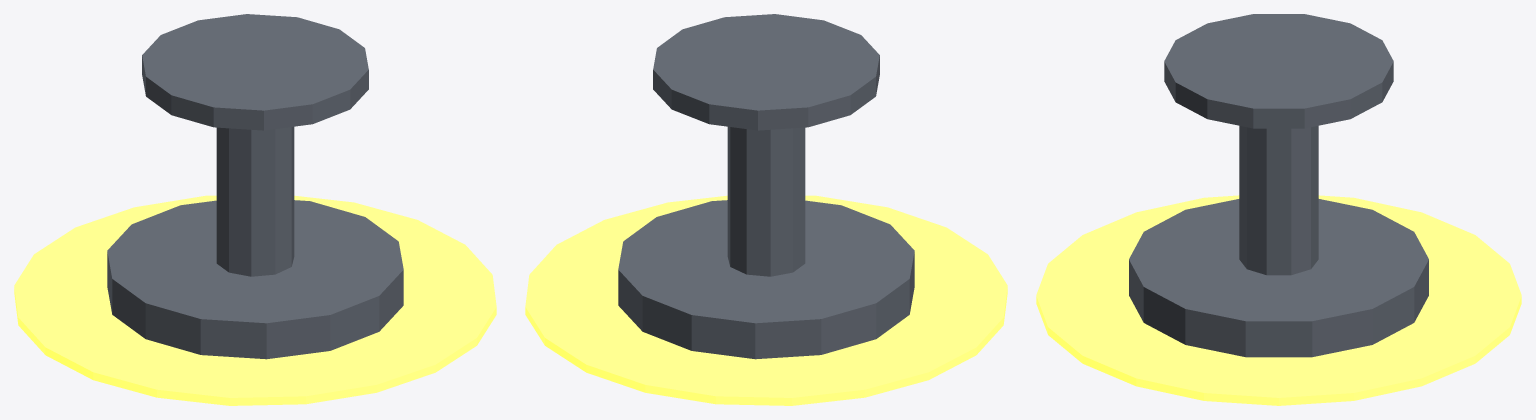
Rendered from item_weapon_stand.glb.
3 views of the same model, side by side, from view 1: azimuth 30°, elevation 25°; view 2: azimuth 150°, elevation 25°; view 3: azimuth 270°, elevation 25° (orthographic).
Parts seen in each view (by area): view 1: Halo, Base, Top, Column; view 2: Halo, Base, Top, Column; view 3: Halo, Base, Top, Column.
Boxes of the visible parts, x1=… form: Halo: x1=14, y1=195, x2=496, y2=405; Base: x1=107, y1=200, x2=403, y2=359; Top: x1=142, y1=14, x2=368, y2=130; Column: x1=216, y1=126, x2=294, y2=276; Halo: x1=525, y1=195, x2=1007, y2=405; Base: x1=618, y1=200, x2=914, y2=359; Top: x1=653, y1=14, x2=879, y2=130; Column: x1=727, y1=126, x2=805, y2=276; Halo: x1=1036, y1=195, x2=1521, y2=405; Base: x1=1129, y1=199, x2=1428, y2=357; Top: x1=1164, y1=14, x2=1393, y2=128; Column: x1=1239, y1=125, x2=1318, y2=275.
Bounding box in the file's own units: 1.1 × 0.615 × 1.1.
